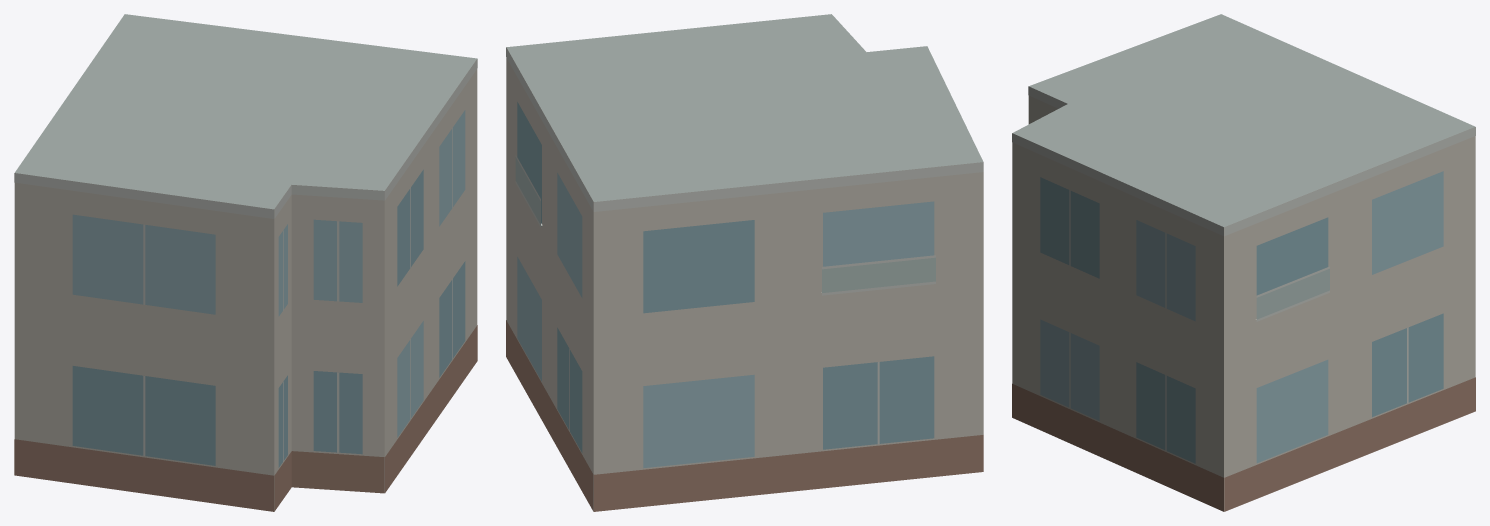
File: survey-upis-32544108.glb
3 renders of one model, left to right at view 1: azimuth 30°, elevation 25°; view 2: azimuth 150°, elevation 25°; view 3: azimuth 270°, elevation 25°, orthographic. The views are drawn at different scales.
Parts seen in each view (by area): view 1: survey-upis-32544108.tmp; view 2: survey-upis-32544108.tmp; view 3: survey-upis-32544108.tmp.
Boxes of the visible parts, <box> form: survey-upis-32544108.tmp: <box>14,14,477,511</box>; survey-upis-32544108.tmp: <box>506,14,983,511</box>; survey-upis-32544108.tmp: <box>1012,14,1475,511</box>.
Bounding box in the file's own units: 12.22 × 7.6 × 11.22.
